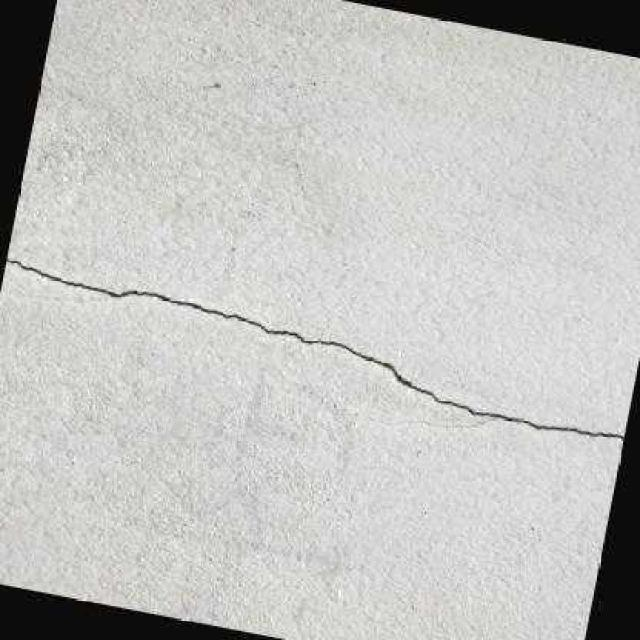D00: (5, 256, 623, 437)
